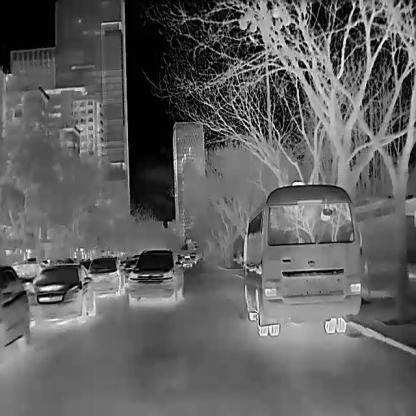bus: (239, 180, 361, 336)
car: (30, 262, 94, 324), (124, 249, 183, 304), (0, 264, 32, 354), (88, 255, 123, 295), (181, 255, 191, 267)
